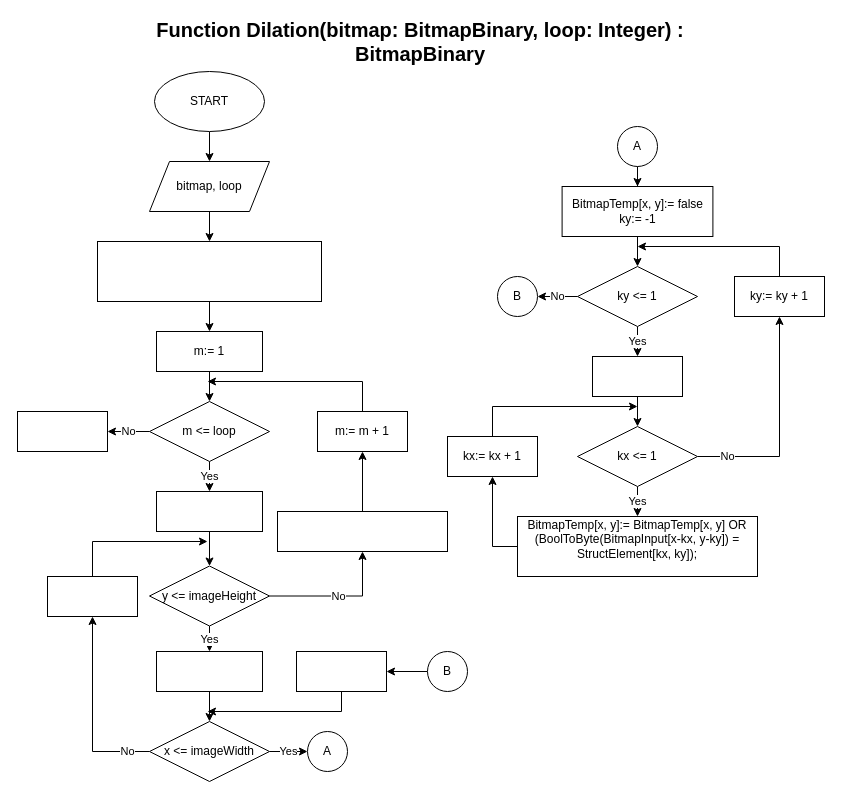
Image size: 842x799. Some labels were removed from this diagram. Each missing label, with the centre of its shape:
BitmapInput:= PaddingBitmap(BitmapTemp): [362,531]
BitmapTemp, BitmapInput: BitmapBinary BitmapInput:= Padding: [209,271]
kx:= -1: [637,376]
return BitmapInput: [62,431]
x:= 1: [209,671]
x:= x + 1: [341,671]
y:= 1: [209,511]
y:= y + 1: [92,596]
